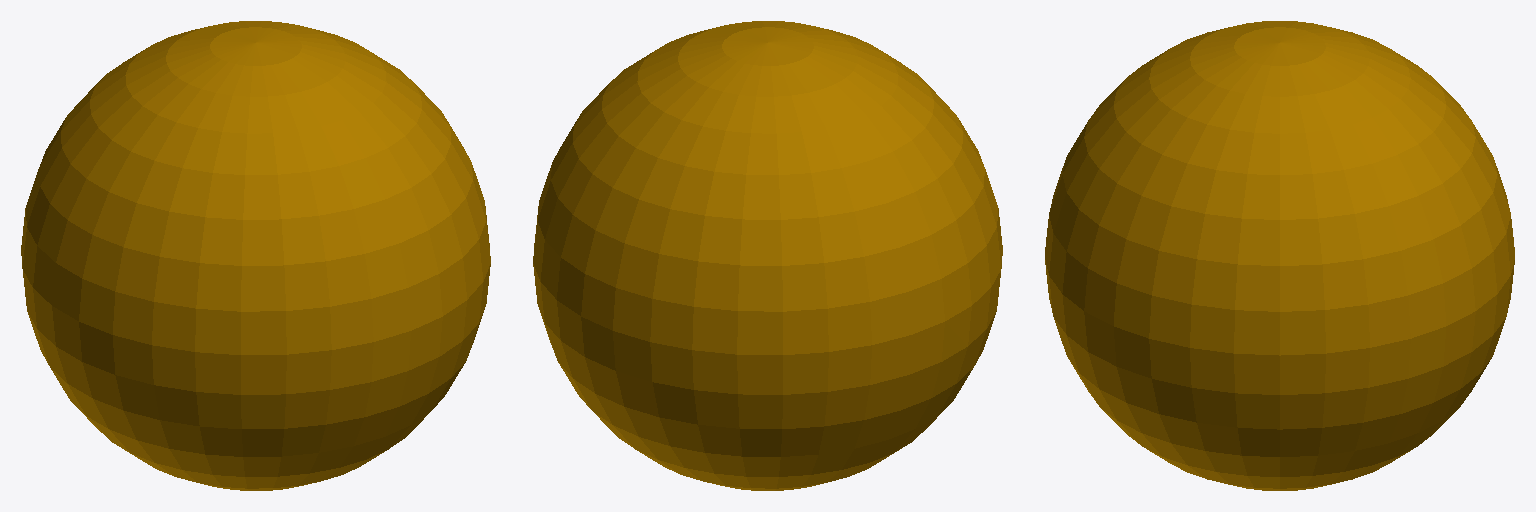
Rendered from PlayerBullet.obj.
The picture shows the model from 3 angles: view 1: azimuth 30°, elevation 25°; view 2: azimuth 150°, elevation 25°; view 3: azimuth 270°, elevation 25°; orthographic projection.
Visible parts, largest first — view 1: 球; view 2: 球; view 3: 球.
Part boxes in pixels (left/top/right/bottom): 球: left=21, top=21, right=490, bottom=490; 球: left=533, top=21, right=1002, bottom=490; 球: left=1045, top=21, right=1514, bottom=490.
Bounding box in the file's own units: 2 × 2 × 2.